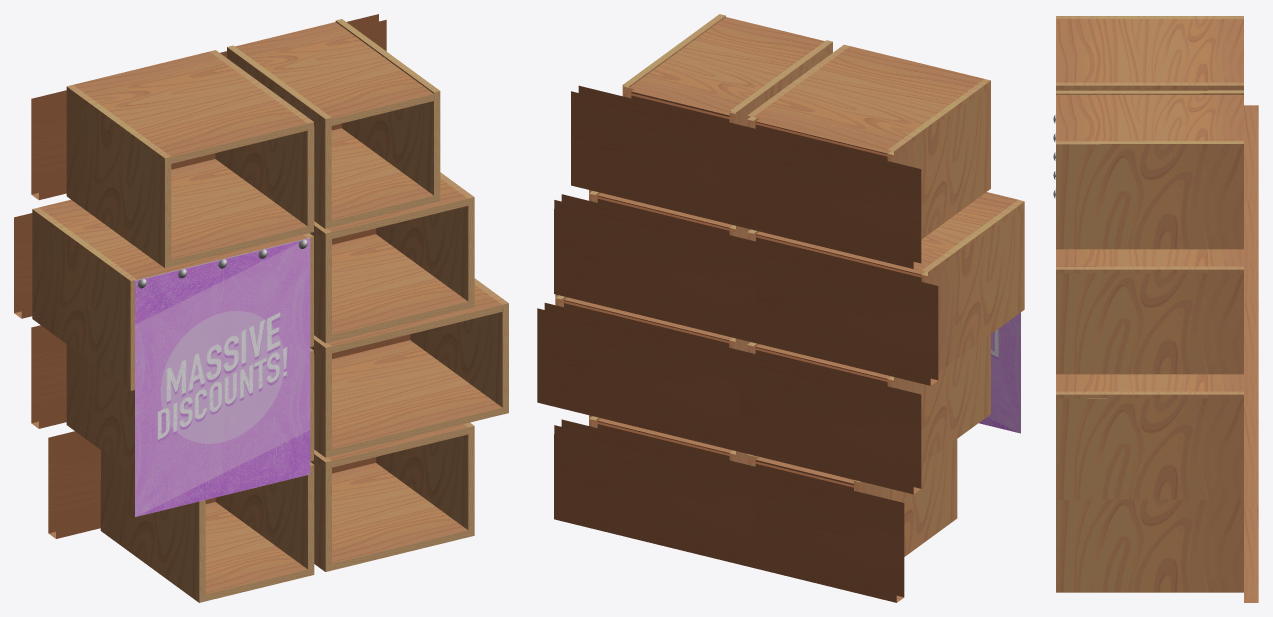
Rendered from layout_poster_2x4_small.fbx.
3 renders of one model, left to right at view 1: azimuth 30°, elevation 25°; view 2: azimuth 150°, elevation 25°; view 3: azimuth 270°, elevation 25°, orthographic. The views are drawn at different scales.
Visible parts, largest first — view 1: Mesh-Poster-Large01, Shelf-TM-00 7, Shelf-BM-00 1, Shelf-CL-01 7, Shelf-TM-00 3, Shelf-CL-01 6, Shelf-BM-00 7, Shelf-BM-00, Shelf-BM-00 2, Shelf-CL-01 4, Shelf-CR-01 3, Shelf-BM-00 3 (+26 smaller); view 2: Shelf-Back-00 (1) 7, Shelf-Back-00 (1) 3, Shelf-Back-00 (1) 2, Shelf-Back-00 (1) 6, Shelf-Back-00 (1) 1, Shelf-Back-00 (1), Shelf-Back-00 (1) 5, Shelf-Back-00 (1) 4, Shelf-TM-00 7, Shelf-TM-00 3, Shelf-CL-01 6, Shelf-CL-01 7 (+18 smaller); view 3: Shelf-CR-01 3, Shelf-CR-01 1, Shelf-CR-01 2, Shelf-CR-01, Shelf-TM-00 7, Shelf-TM-00 3, Shelf-TM-00 1, Shelf-TM-00 2, Shelf-CR-00 (1) 1, Shelf-CR-00 2, Shelf-CR-00 (1) 2, Shelf-CR-00 3 (+13 smaller).
Boxes of the visible parts, left/top/right/bottom form: Mesh-Poster-Large01: left=135, top=238, right=310, bottom=516; Shelf-TM-00 7: left=73, top=51, right=307, bottom=163; Shelf-BM-00 1: left=332, top=340, right=502, bottom=455; Shelf-CL-01 7: left=66, top=91, right=171, bottom=261; Shelf-TM-00 3: left=235, top=22, right=433, bottom=125; Shelf-CL-01 6: left=32, top=213, right=134, bottom=383; Shelf-BM-00 7: left=171, top=159, right=307, bottom=266; Shelf-BM-00: left=332, top=463, right=468, bottom=570; Shelf-BM-00 2: left=332, top=234, right=468, bottom=341; Shelf-CL-01 4: left=100, top=450, right=205, bottom=595; Shelf-CR-01 3: left=335, top=19, right=440, bottom=195; Shelf-BM-00 3: left=331, top=128, right=433, bottom=227; Shelf-Back-00 (1) 7: left=712, top=121, right=921, bottom=268; Shelf-Back-00 (1) 3: left=571, top=85, right=779, bottom=234; Shelf-Back-00 (1) 2: left=554, top=194, right=763, bottom=342; Shelf-Back-00 (1) 6: left=729, top=237, right=938, bottom=385; Shelf-Back-00 (1) 1: left=537, top=303, right=745, bottom=451; Shelf-Back-00 (1): left=554, top=419, right=755, bottom=568; Shelf-Back-00 (1) 5: left=712, top=345, right=921, bottom=494; Shelf-Back-00 (1) 4: left=695, top=454, right=904, bottom=602; Shelf-TM-00 7: left=754, top=46, right=983, bottom=156; Shelf-TM-00 3: left=629, top=17, right=824, bottom=119; Shelf-CL-01 6: left=921, top=208, right=1024, bottom=365; Shelf-CL-01 7: left=887, top=87, right=990, bottom=232; Shelf-CR-01 3: left=1056, top=141, right=1243, bottom=242; Shelf-CR-01 1: left=1056, top=398, right=1243, bottom=492; Shelf-CR-01 2: left=1056, top=273, right=1243, bottom=367; Shelf-CR-01: left=1056, top=499, right=1243, bottom=585; Shelf-TM-00 7: left=1056, top=19, right=1243, bottom=82; Shelf-TM-00 3: left=1056, top=95, right=1243, bottom=141; Shelf-TM-00 1: left=1056, top=374, right=1243, bottom=391; Shelf-TM-00 2: left=1056, top=249, right=1243, bottom=266; Shelf-CR-00 (1) 1: left=1056, top=391, right=1243, bottom=398; Shelf-CR-00 2: left=1056, top=367, right=1243, bottom=374; Shelf-CR-00 (1) 2: left=1056, top=266, right=1243, bottom=273; Shelf-CR-00 3: left=1056, top=242, right=1243, bottom=249.
Bounding box in the file's own units: 188 × 203 × 87.4.
